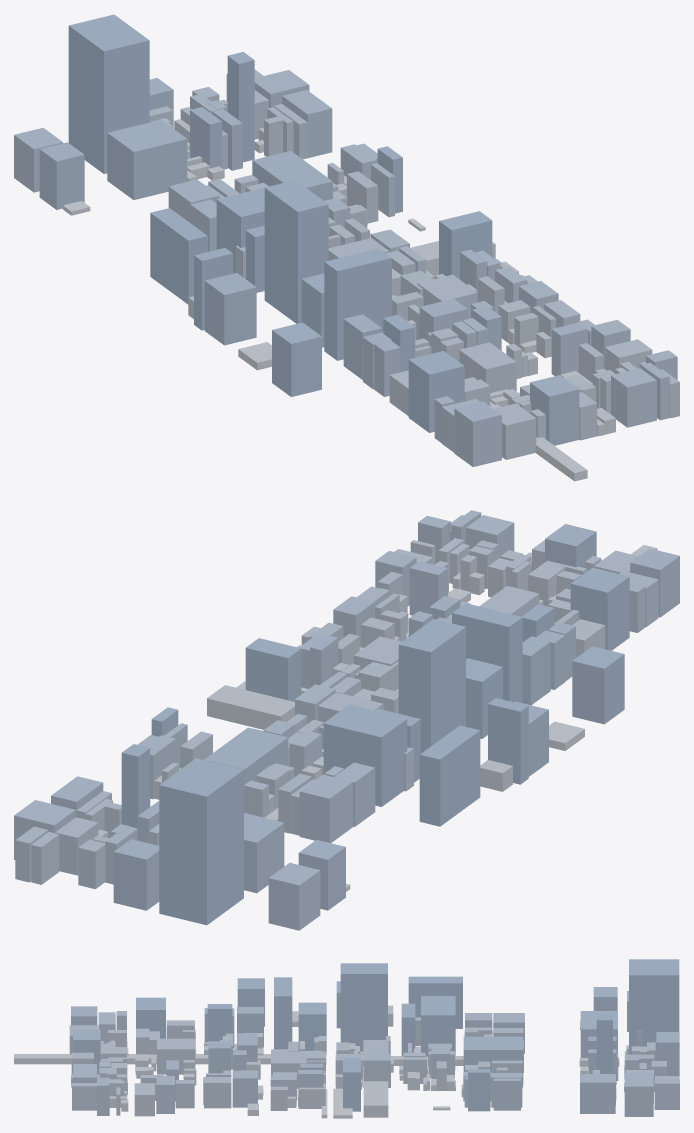
The picture shows the model from 3 angles, top to bottom: view 1: azimuth 30°, elevation 25°; view 2: azimuth 150°, elevation 25°; view 3: azimuth 270°, elevation 25°; orthographic projection. The views are drawn at different scales.
Size of the model in its own units: 329 by 131 by 905.
